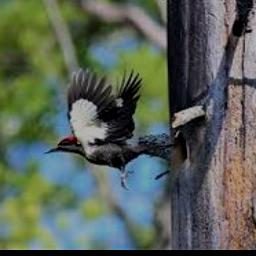Woodpecker: (43, 67, 178, 190)
